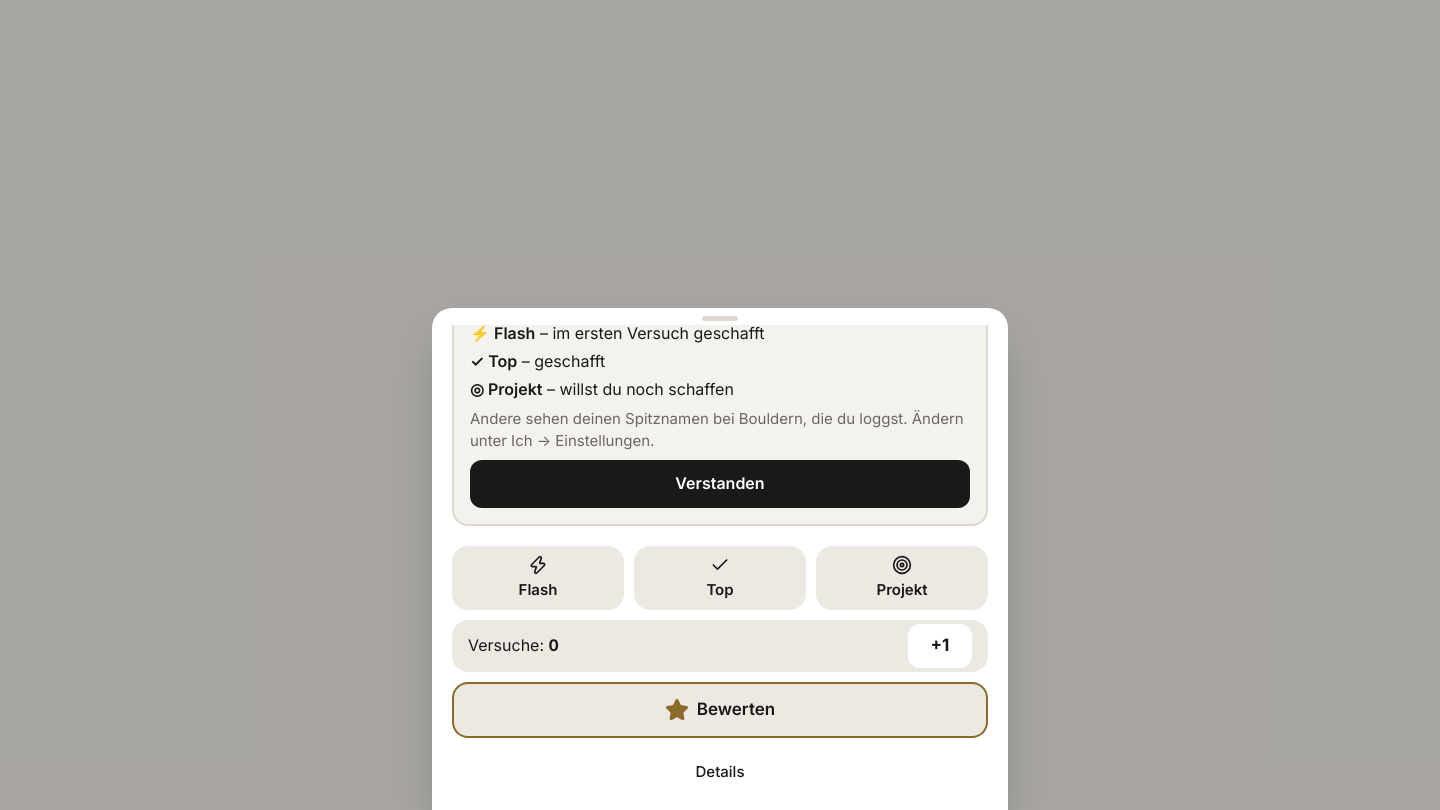
Mobile-First Experience Test Suite › 7) 2-Stufen-Bewertung & Abhaken ganz oben im Sheet
(page scrolled)
Check: the element with test id "ascent-logging-card" is shown, box [452,546,988,610]
Check: the button with test id "log-flash-btn" reads "Flash", box [452,546,624,610]
# Bewerten aus dem vollen Sheet öffnen
Step 1. Click the button with test id "boulder-sheet-more" → (720, 772), box [452,750,988,794]
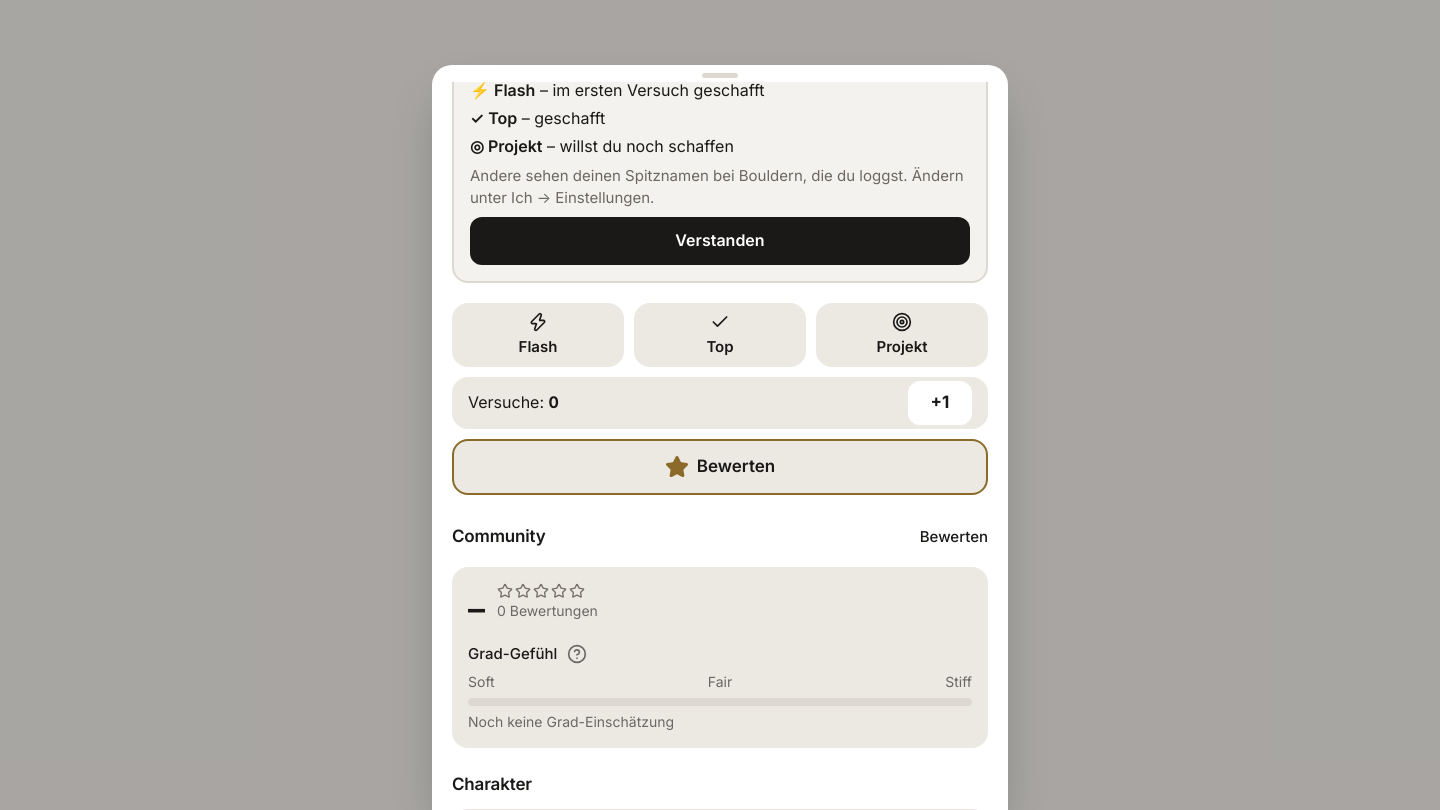
Step 2. Click the button with test id "open-rating-btn" → (954, 537), box [920,519,988,555]
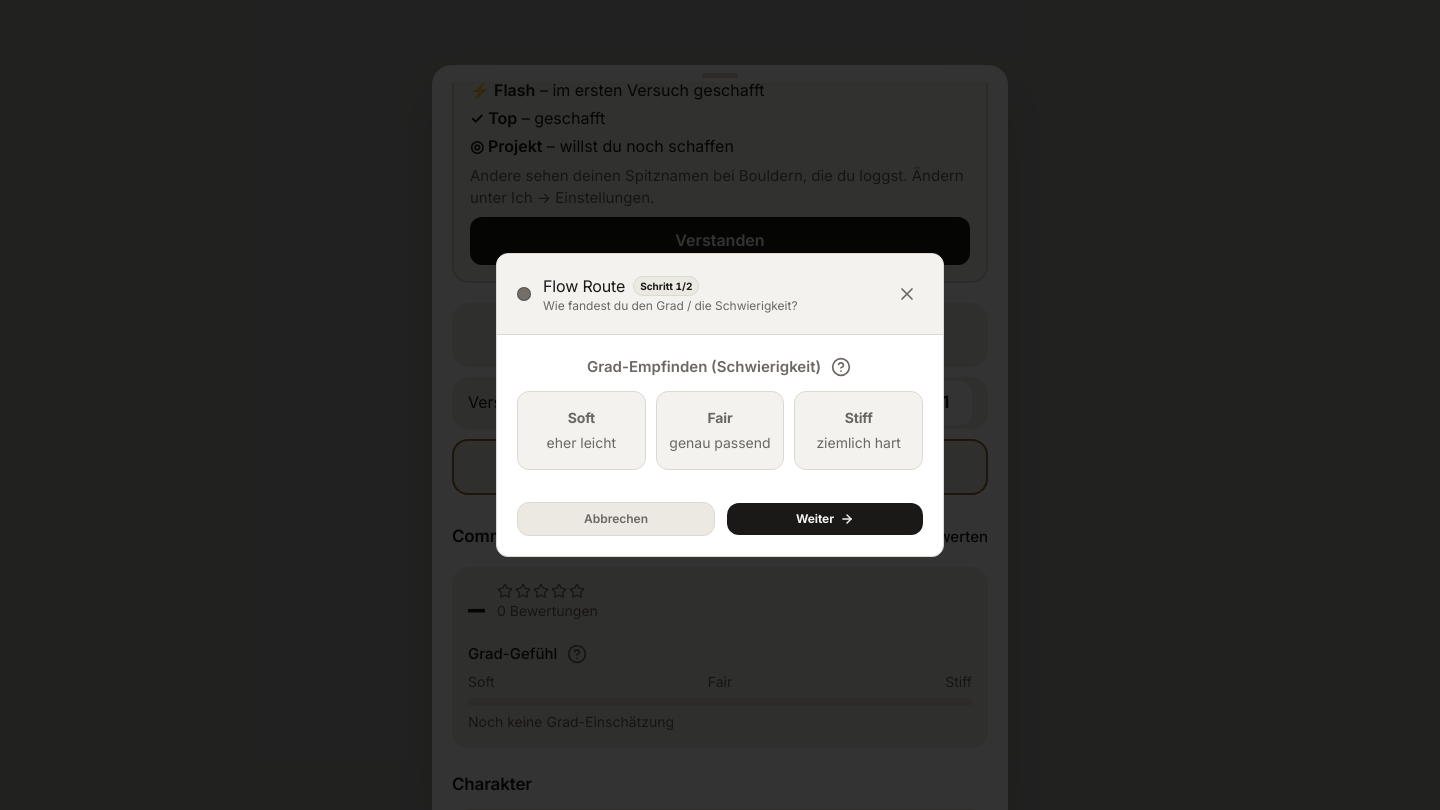
Check: the text "Schritt 1/2" is shown, box [633,276,699,296]
Check: the button "Soft eher leicht" is shown, box [517,391,646,470]
Check: the button "Fair genau passend" is shown
Step 3. Click the button "Fair genau passend" → (720, 431), box [656,391,784,470]
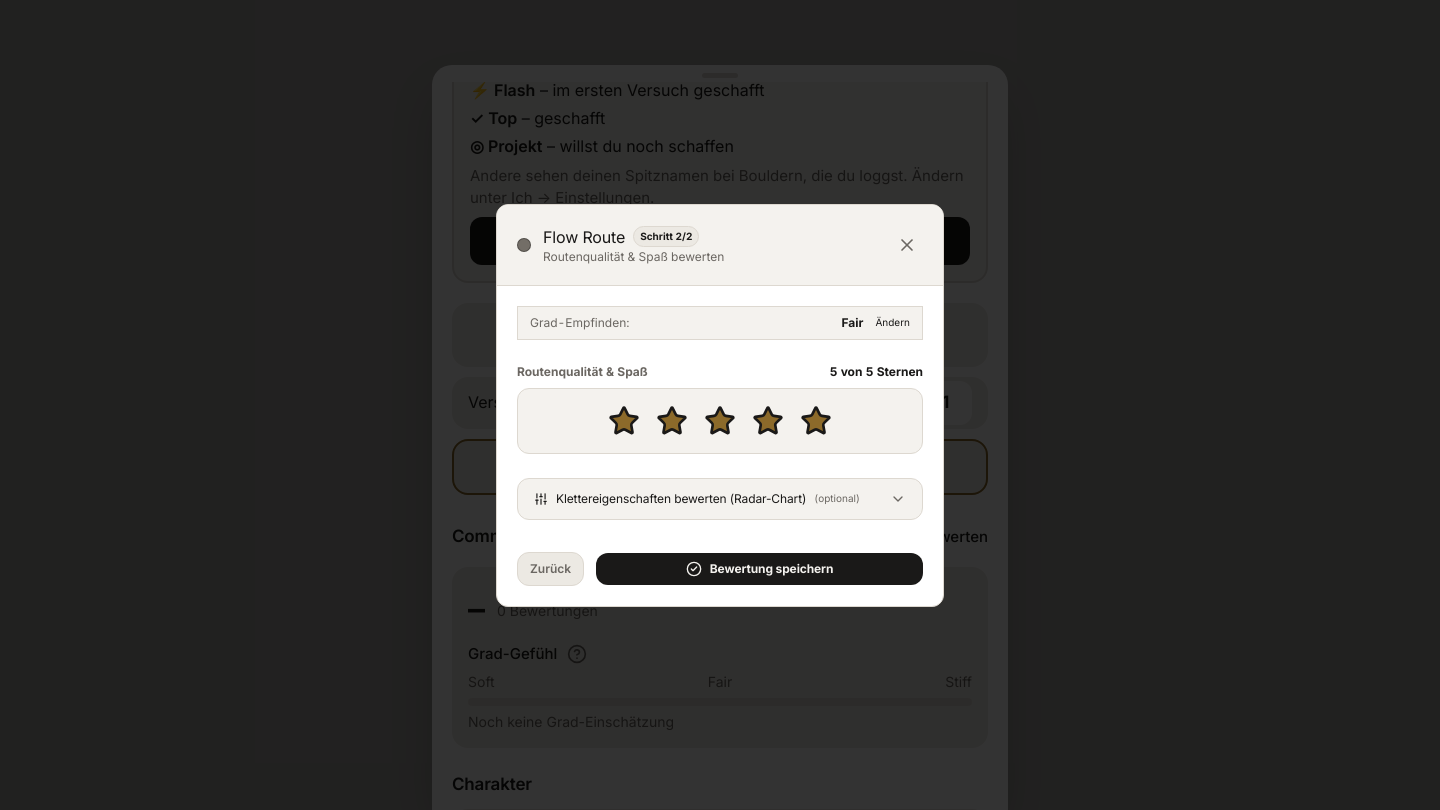
Check: the text "Schritt 2/2" is shown, box [633,226,699,247]
Check: the text "Routenqualität & Spaß bewerten" is shown, box [543,248,724,264]
Check: the text "5 von 5 Sternen" is shown, box [830,364,923,380]
# 4 Sterne wählen und speichern
Step 4. Click the button named "4 Sterne" → (768, 420), box [748,400,788,440]
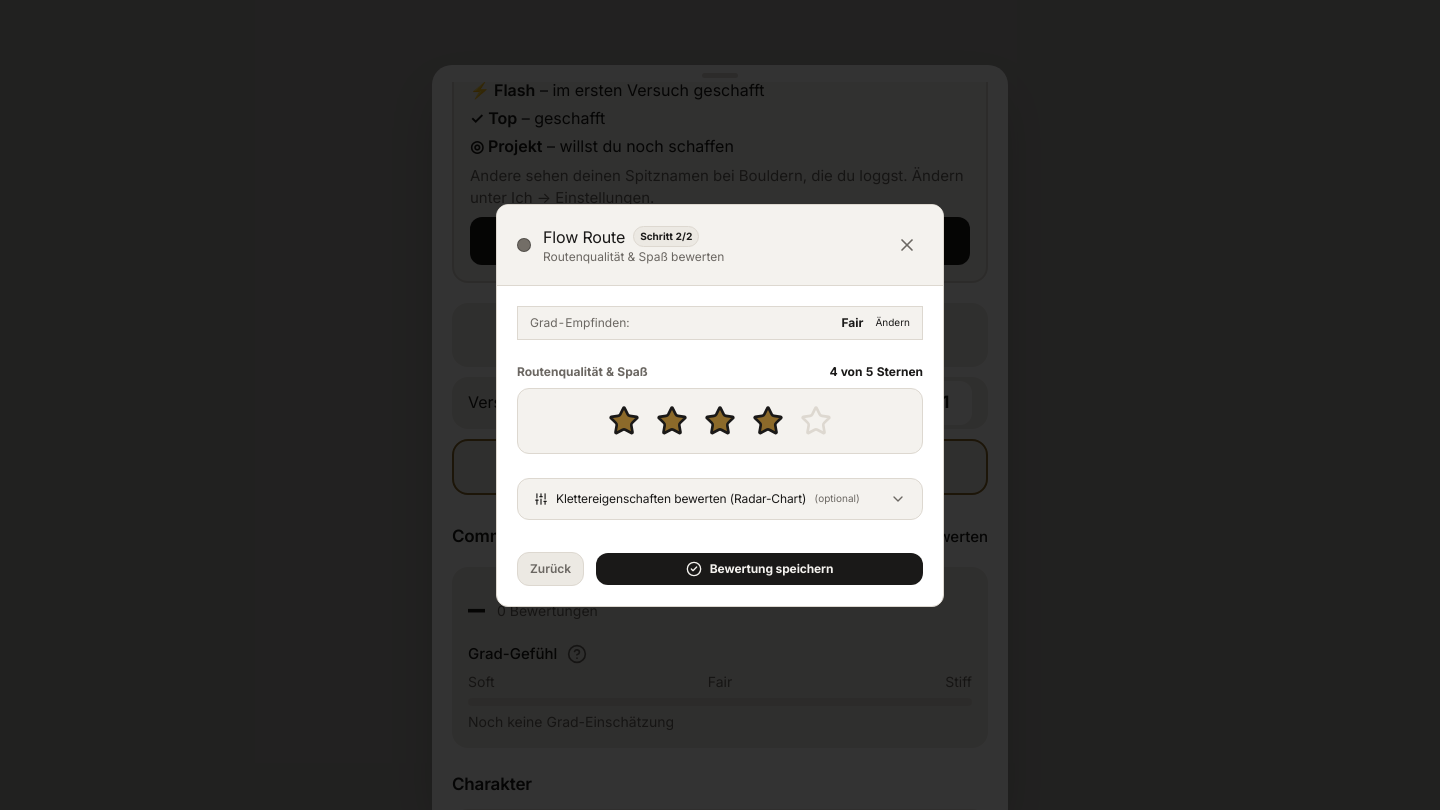
Check: the text "4 von 5 Sternen" is shown, box [830,364,923,380]
Step 5. Click the button "Bewertung speichern" → (760, 568), box [596,552,923,584]
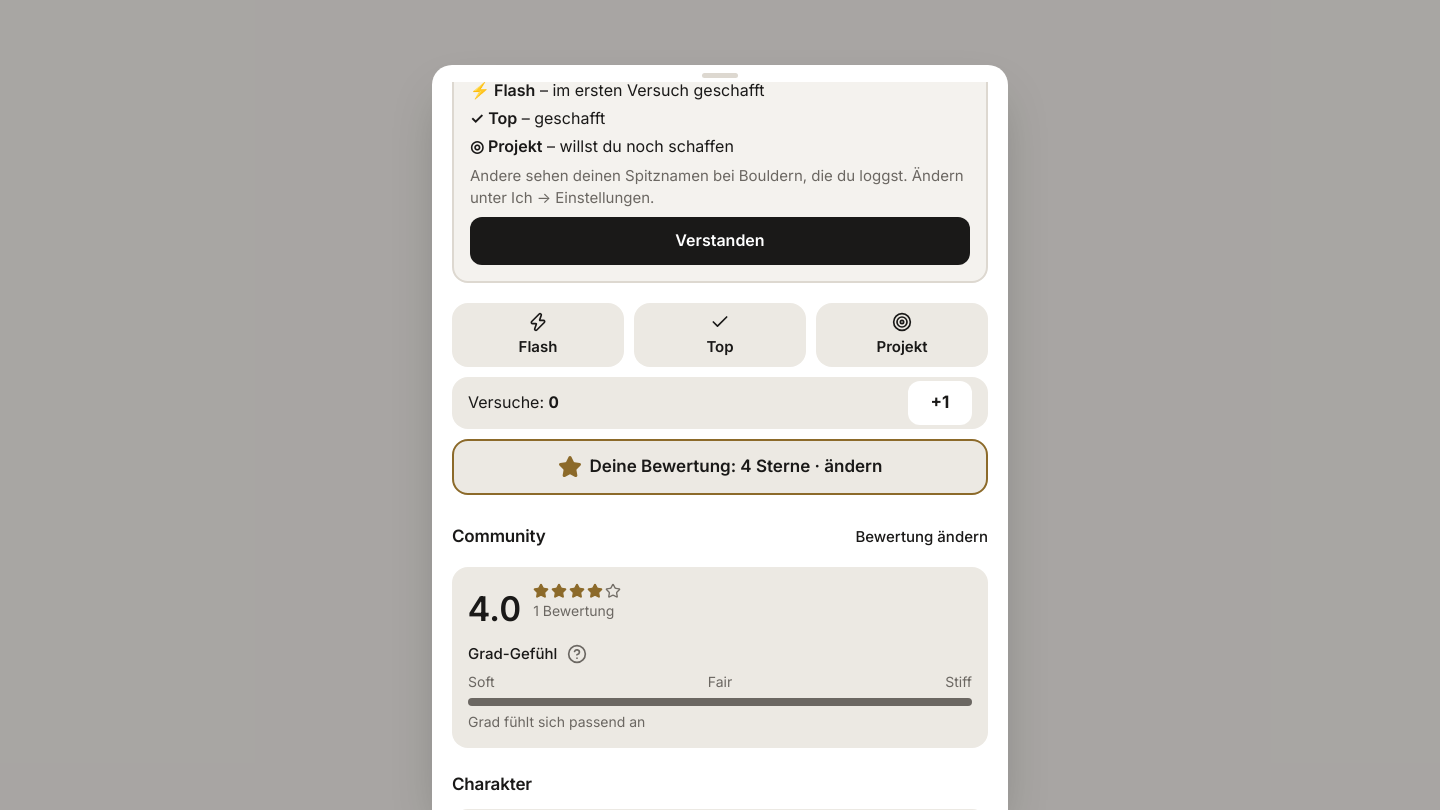
Check: the text "Schritt 2/2" is gone
Check: the button with test id "open-rating-btn" reads "Bewertung ändern", box [855,519,988,555]
